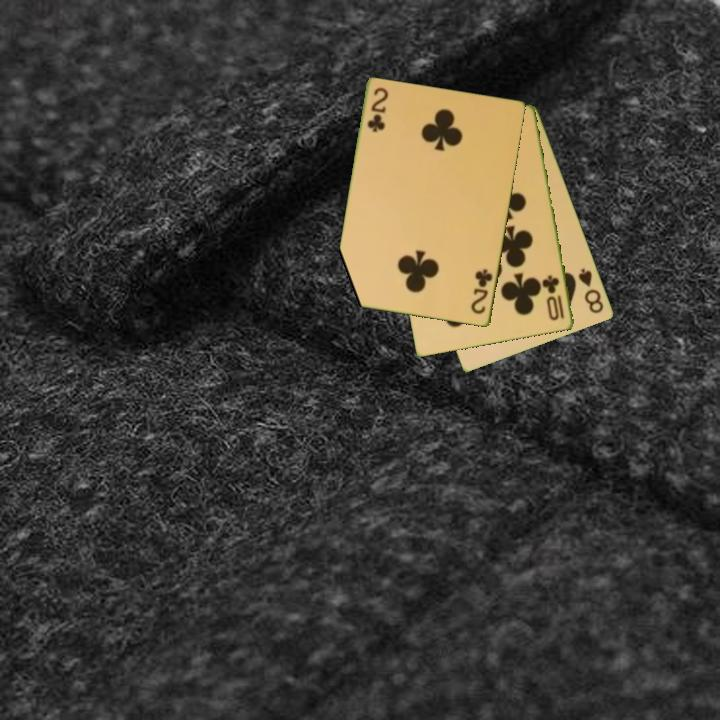10c: (540, 272, 568, 323)
2c: (468, 266, 496, 317), (364, 84, 391, 136)
8s: (575, 265, 607, 316)
